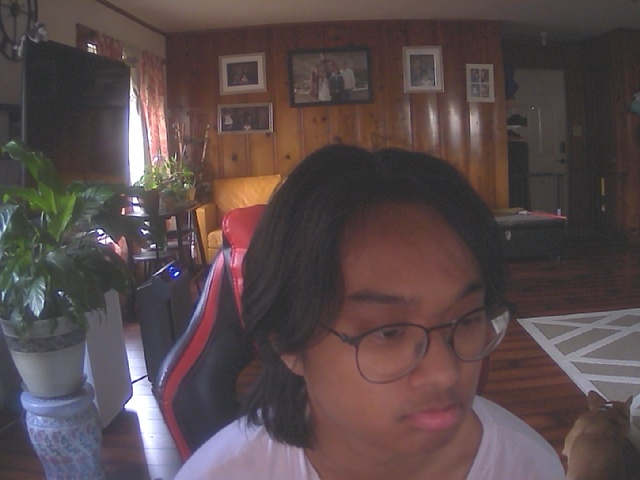sad: (261, 169, 520, 461)
